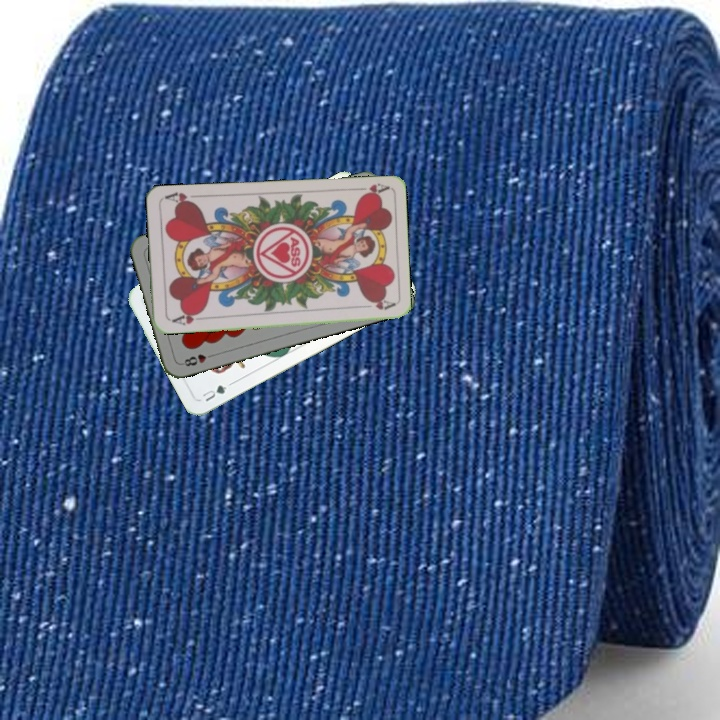GU: (198, 379, 235, 404)
H8: (178, 350, 217, 369)
HA: (166, 308, 207, 328), (349, 179, 390, 199)
